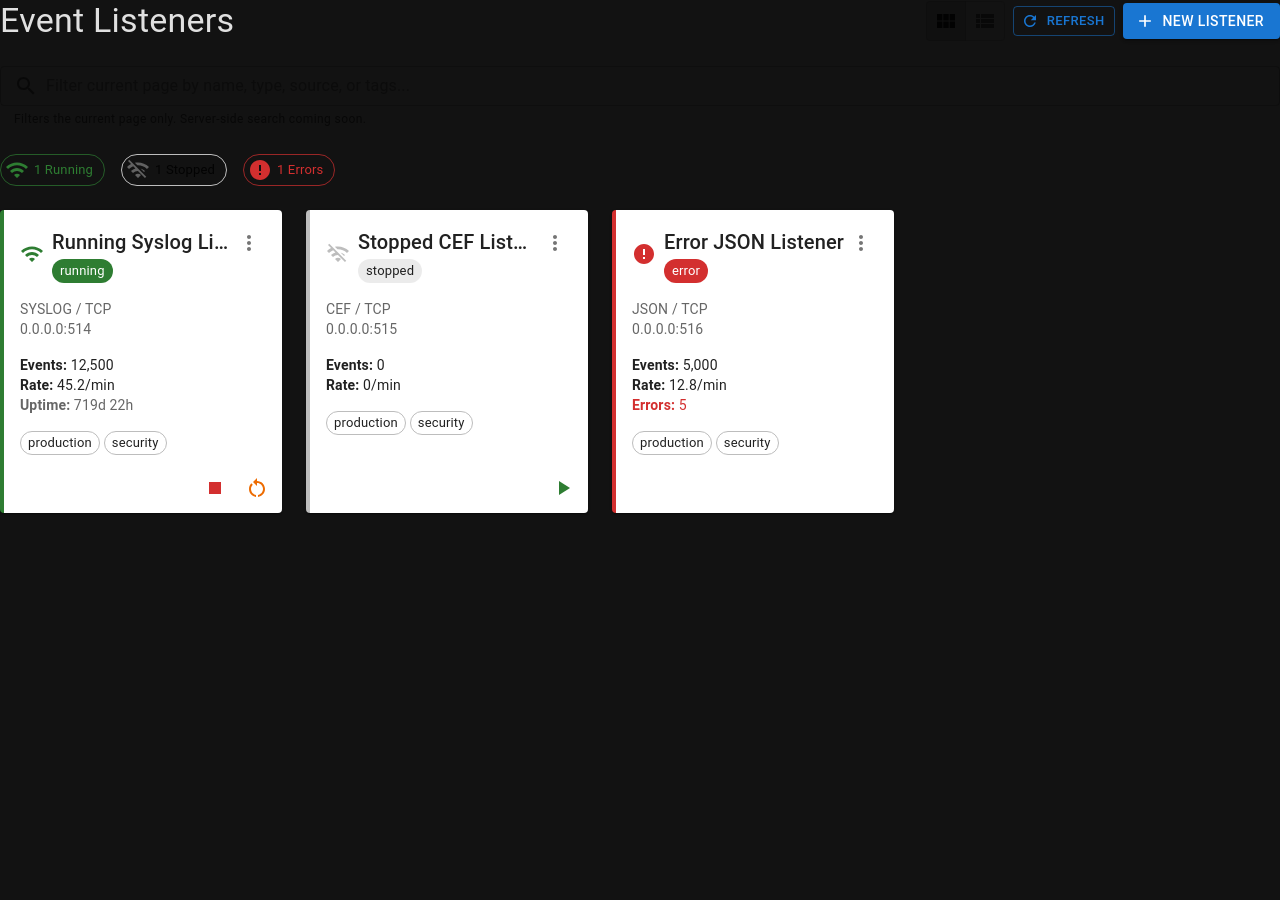
Scenario: Listeners Page › Edit Dialog › opens edit dialog from actions menu for stopped listener
This screenshot has width=1280, height=900.
Expected: the text "Stopped CEF Listener" is shown, [358,226,538,258]
Click the button named "open actions menu": (555, 243) [538,226,572,260]
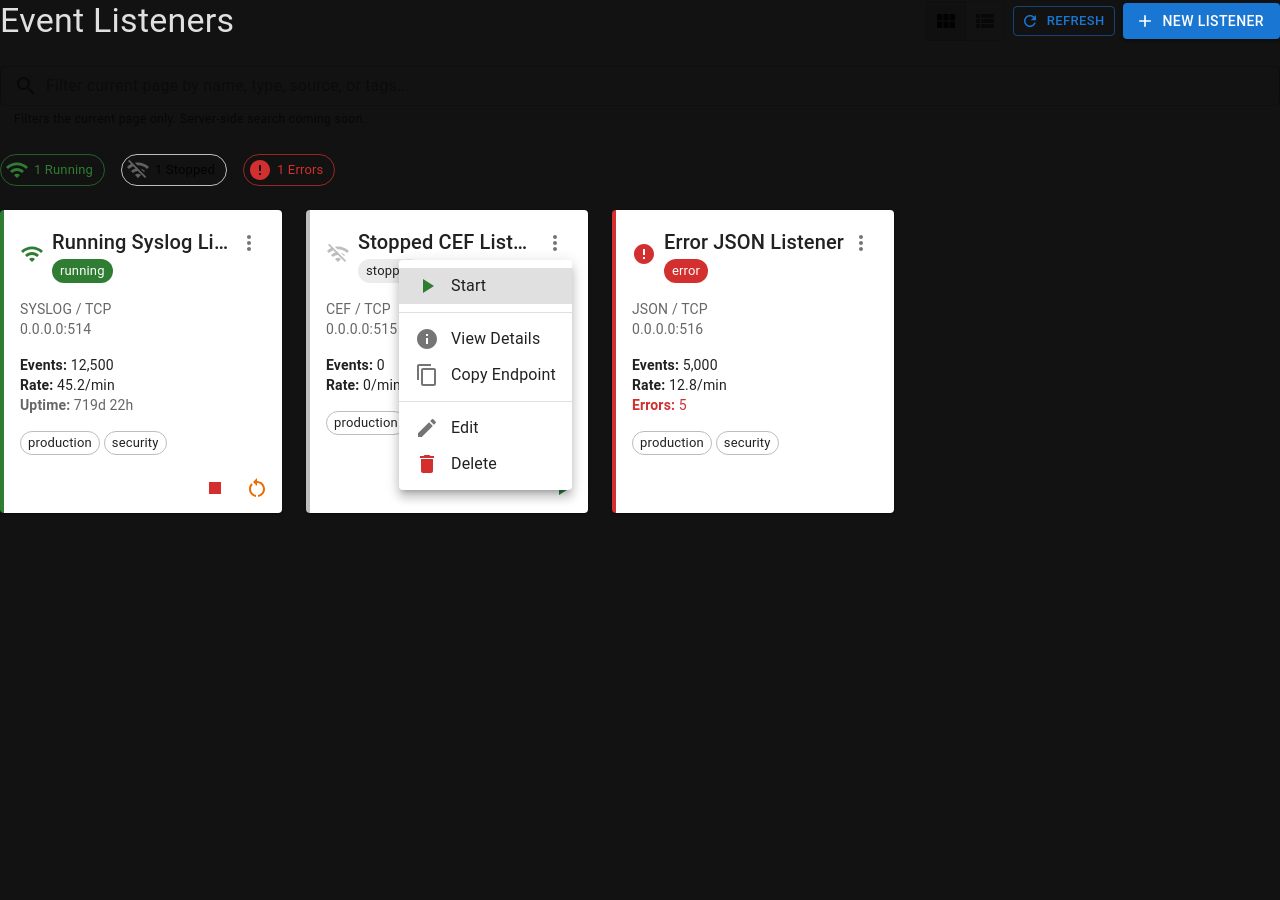
Click the menu item "Edit": (427, 428) [415,416,479,440]
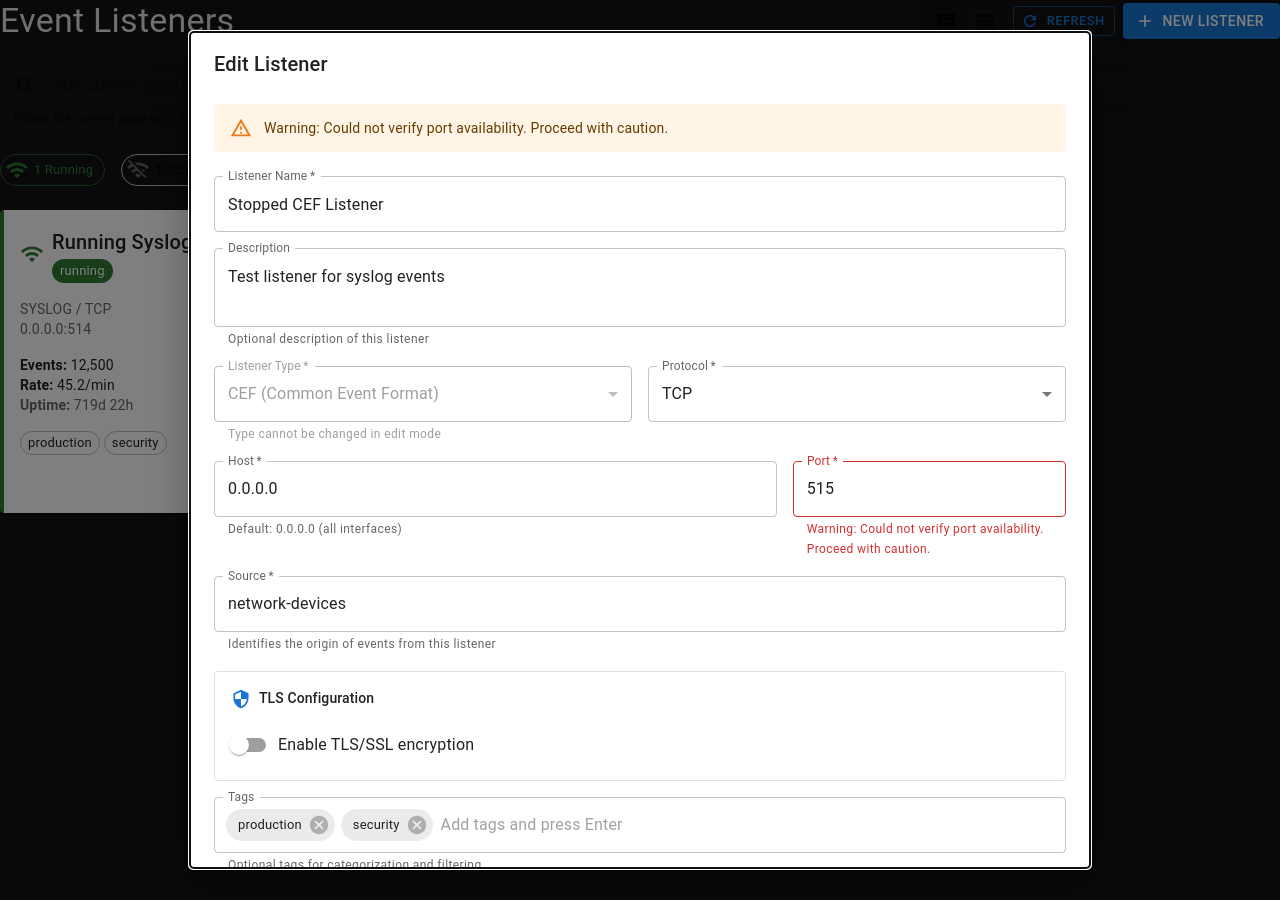
Expected: the dialog is shown
Expected: the heading "Edit Listener" is shown, [214,52,328,76]
